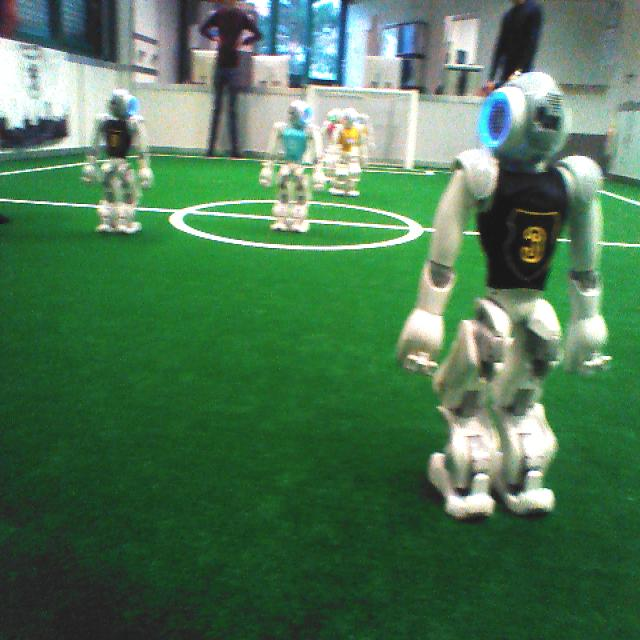goalpost: (404, 89, 420, 171), (306, 85, 315, 120)
